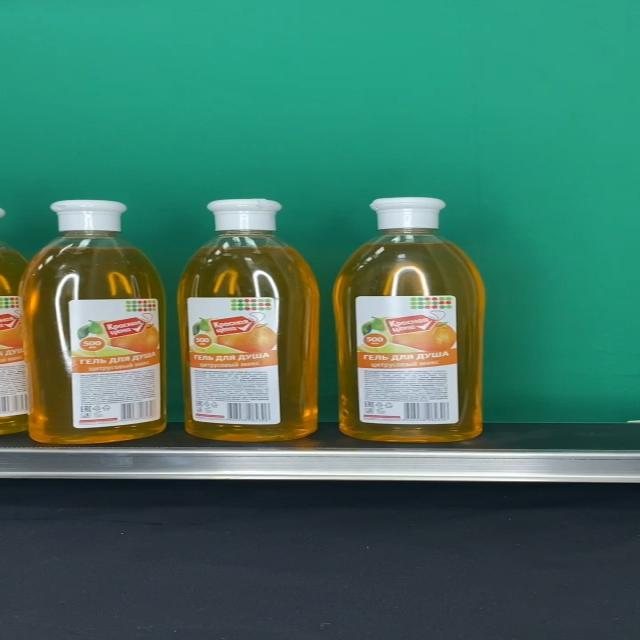Bottle: (332, 197, 486, 442), (18, 201, 166, 444), (177, 198, 321, 441)
Cap: (207, 198, 284, 231), (370, 197, 447, 229), (50, 200, 126, 232)
